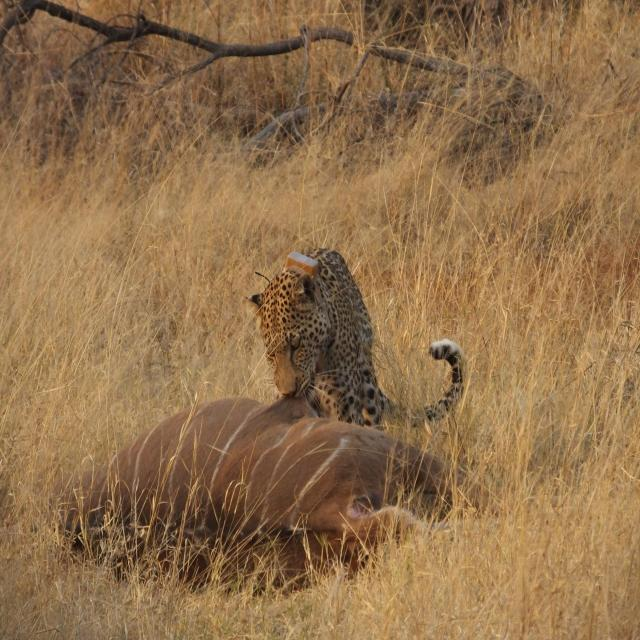Leopard: (249, 244, 456, 443)
